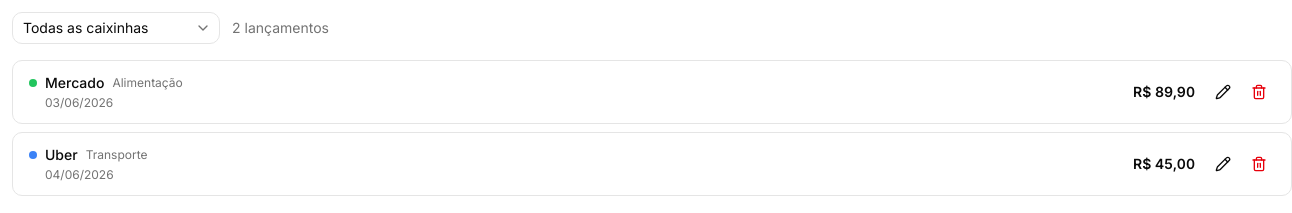
Scenario: ExpenseList › filtra lançamentos por caixinha ao selecionar no filtro
What coordinates should you click on to do the following:
click the dropdown labelled "Todas as caixinhas ▼"
I would click on:
 (116, 28)
Its box is [12, 12, 220, 44].
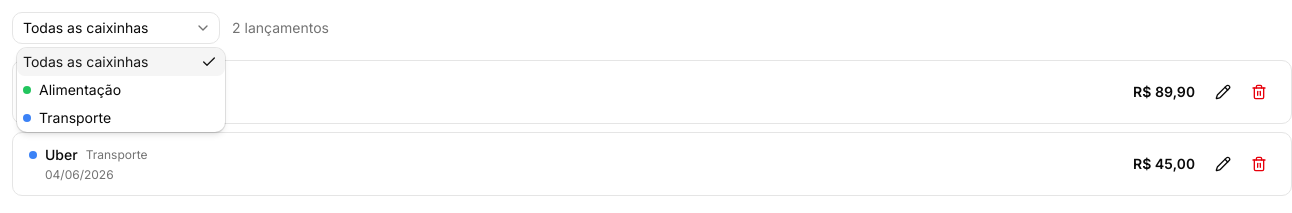
Check: the option "Todas as caixinhas" is shown, box [17, 48, 225, 76]
Check: the option "Alimentação" is shown
What coordinates should you click on to do the following:
click the option "Alimentação"
I would click on:
 (72, 90)
Its box is [23, 81, 121, 98].
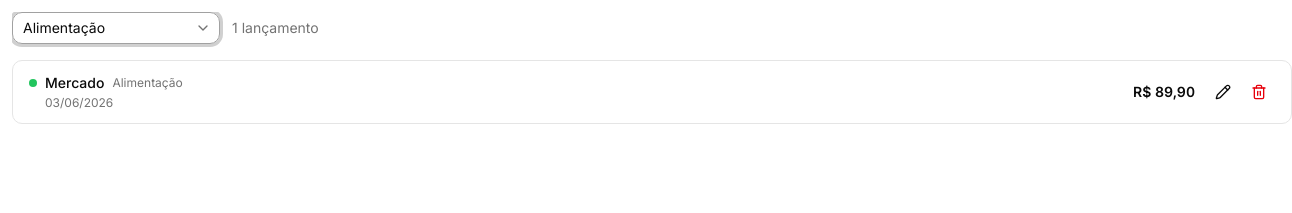
Check: the text "Mercado" is shown, box [45, 73, 104, 93]
Check: the text "Uber" is gone
